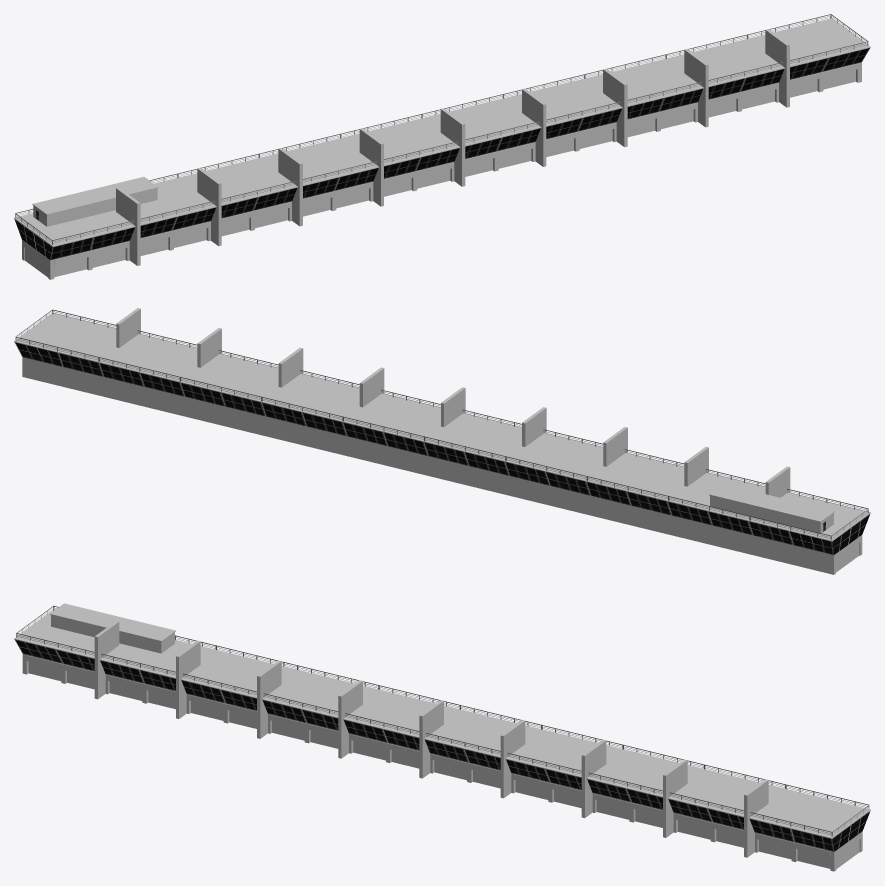
The model's file is Building-Grid-07.fbx.
The picture shows the model from 3 angles, top to bottom: view 1: azimuth 30°, elevation 25°; view 2: azimuth 150°, elevation 25°; view 3: azimuth 330°, elevation 25°; orthographic projection.
Parts seen in each view (by area): view 1: Building-Grid-07; view 2: Building-Grid-07; view 3: Building-Grid-07.
Part boxes in pixels (x1=…): Building-Grid-07: x1=14, y1=14, x2=870, y2=279; Building-Grid-07: x1=14, y1=308, x2=870, y2=574; Building-Grid-07: x1=14, y1=603, x2=870, y2=871.
Size of the model in its own units: 20151 by 1464 by 1747.
